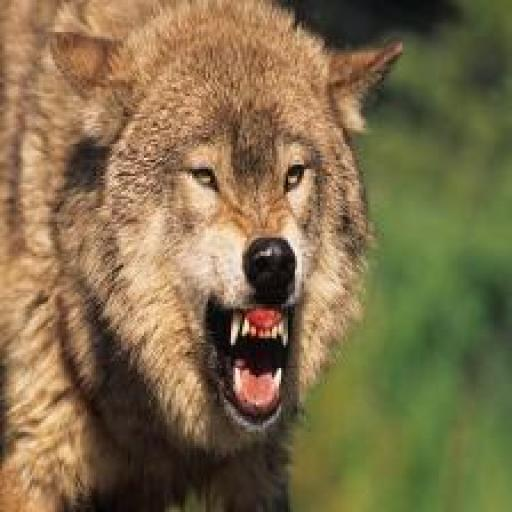wolf: (0, 14, 455, 511)
